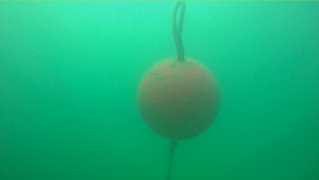bubble: (35, 148, 40, 153), (50, 46, 54, 50)
buoy: (135, 56, 221, 140)
